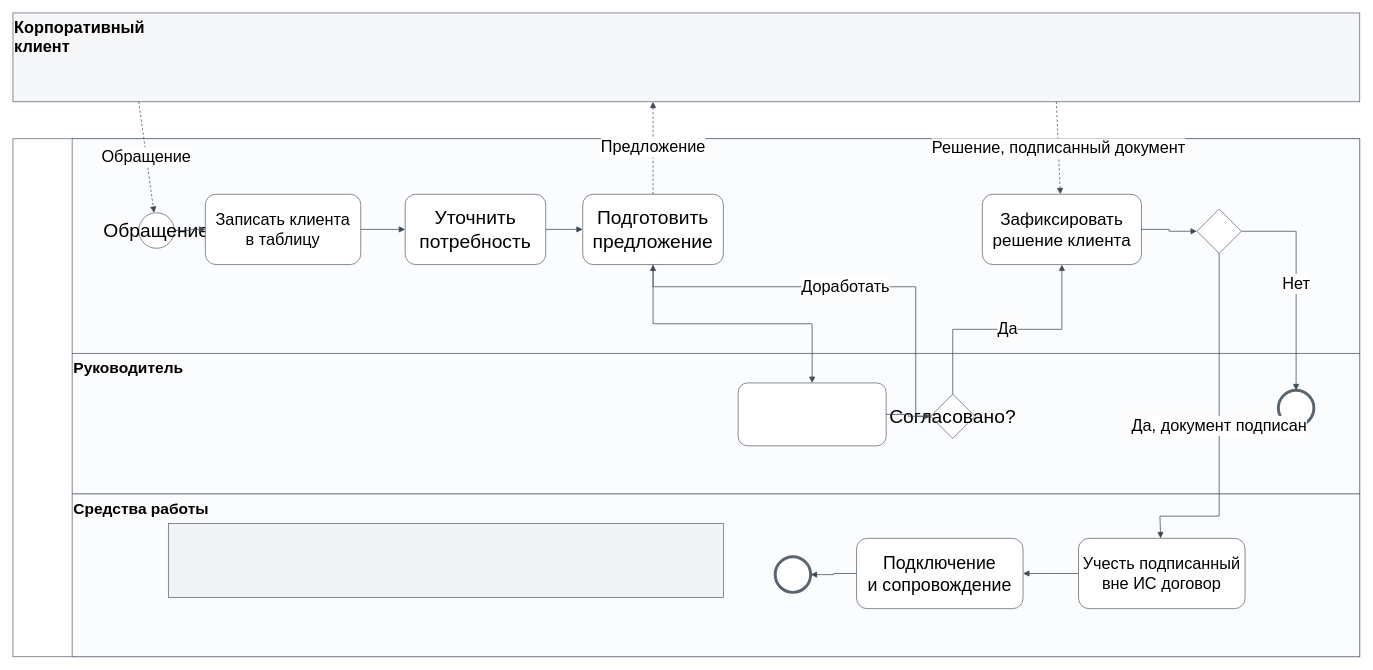
The diagram is 1373 pixels wide and 670 high, and some of its shapes have lost their labels. The box of each missing label's shape, as (x1, y1, x2, y2) in pixels:
Договор учтён: (773, 555, 812, 593)
Менеджер: (71, 138, 1360, 353)
Отказ клиента: (1276, 388, 1315, 427)
Принято?: (1196, 208, 1241, 253)
Согласовать предложение: (737, 382, 886, 446)
Таблицы и почта: ручное сведение данных и версий: (168, 523, 723, 598)
